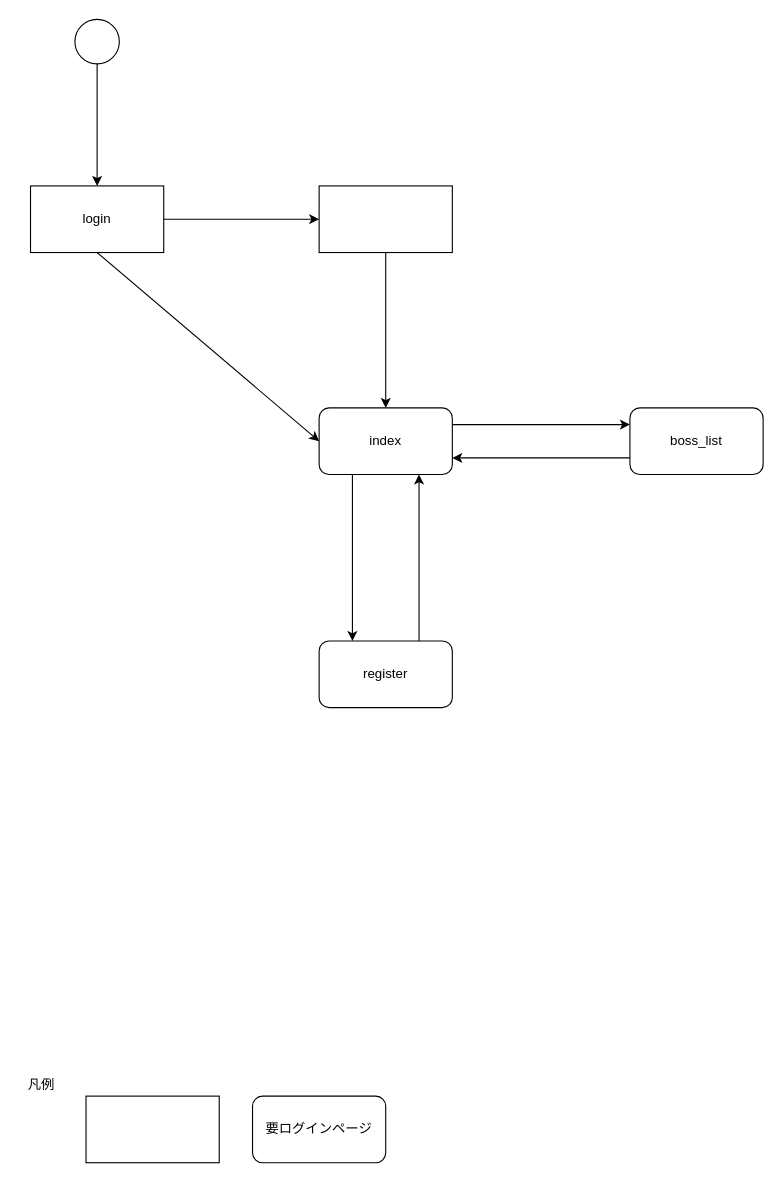
This 783x1182 diagram has some shape labels left out. Each missing label, with the centre of its shape:
"signup" goes at (x=385, y=219).
"ログイン不要ページ" goes at (x=152, y=1129).
